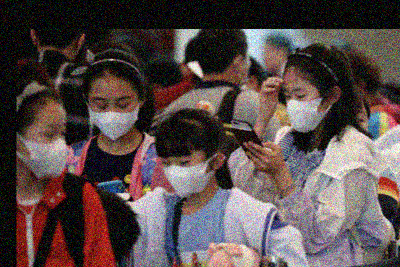with_mask: (158, 146, 213, 196), (87, 89, 138, 140), (27, 118, 69, 178), (281, 82, 326, 133)
